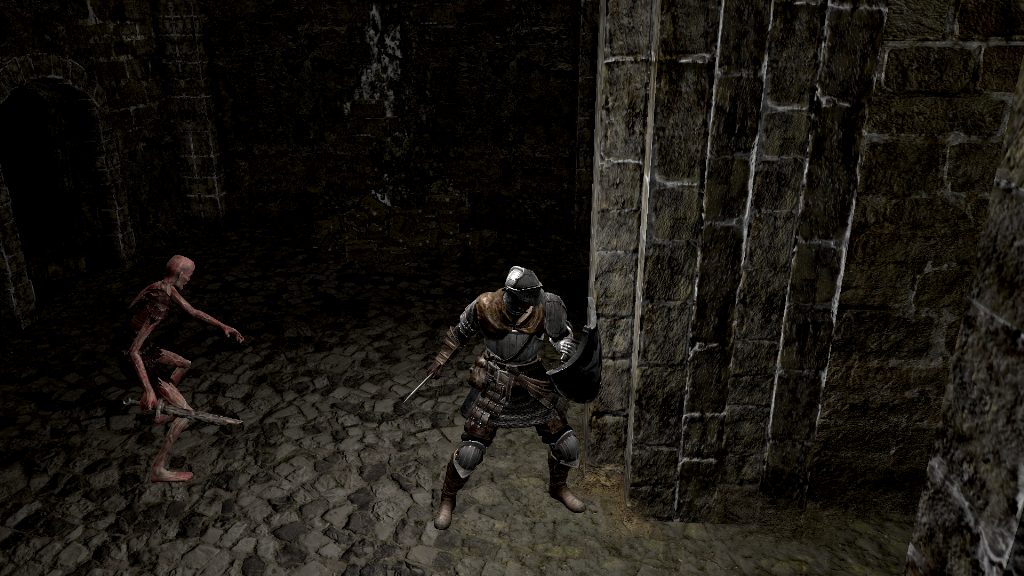hollow: (118, 252, 244, 482)
player: (399, 264, 605, 530)
